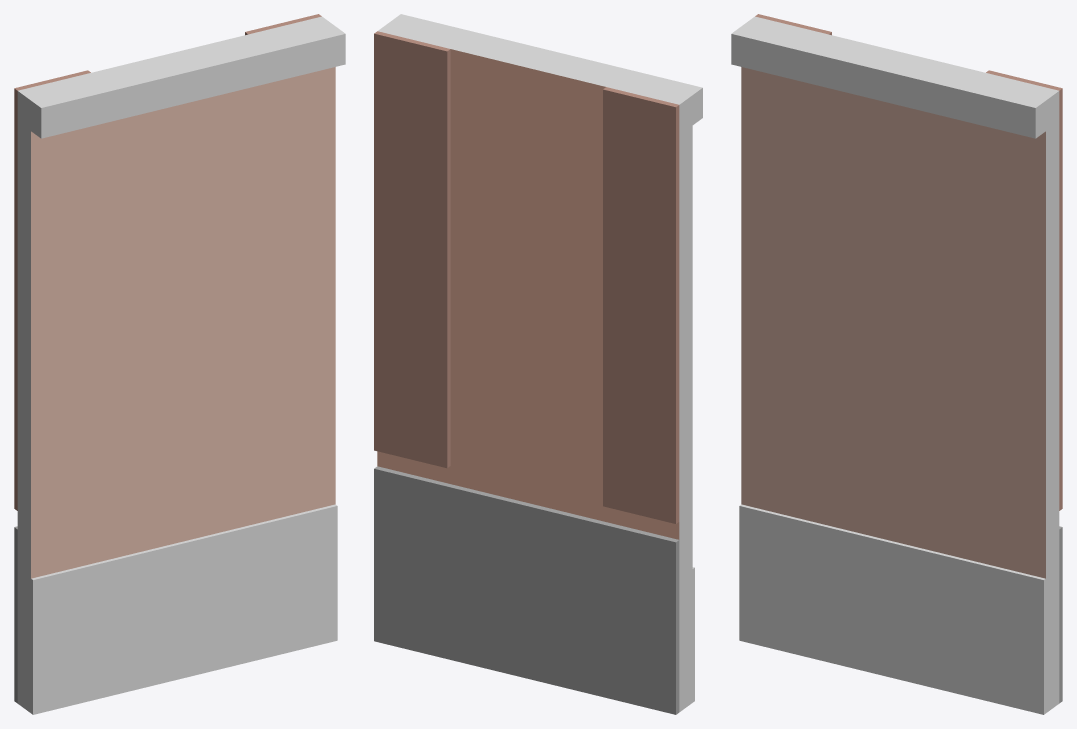
The model's file is EntranceWall_01_Bottom.fbx.
3 views of the same model, side by side, from view 1: azimuth 30°, elevation 25°; view 2: azimuth 150°, elevation 25°; view 3: azimuth 330°, elevation 25° (orthographic).
Parts seen in each view (by area): view 1: EntranceWall_01_Bottom; view 2: EntranceWall_01_Bottom; view 3: EntranceWall_01_Bottom.
Boxes of the visible parts, box(x1,y1,x2,y2) form: EntranceWall_01_Bottom: box(14, 14, 345, 714); EntranceWall_01_Bottom: box(374, 14, 702, 714); EntranceWall_01_Bottom: box(731, 14, 1062, 714).
Bounding box in the file's own units: 2.6 × 5 × 0.4.
